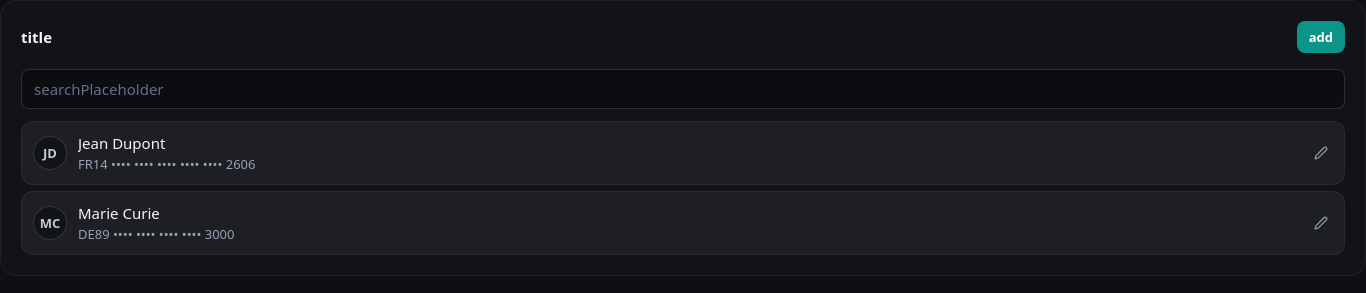
Test: BeneficiariesPanel › filtre la liste par libellé ou IBAN via la barre de recherche
Expected: the text "Jean Dupont" is shown, top-left (78, 133), bottom-right (165, 153)
Step 1. Type "marie" into the search field → (683, 89), box top-left (21, 69), bottom-right (1345, 109)
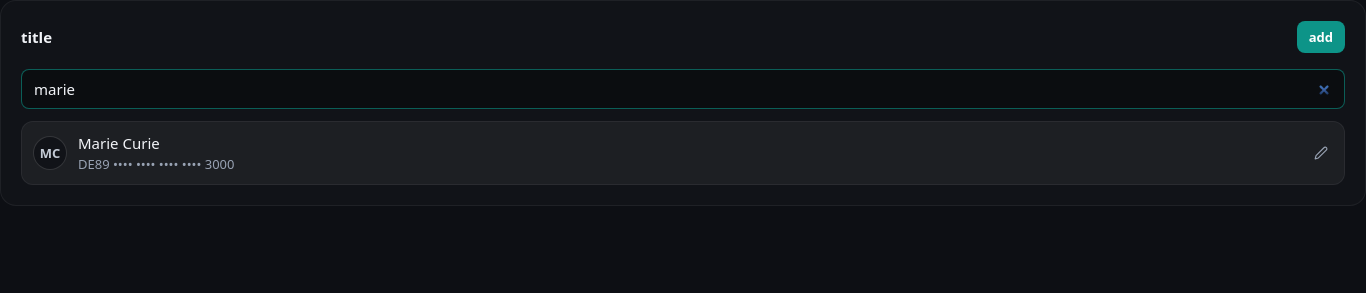
Expected: the text "Marie Curie" is shown, top-left (78, 133), bottom-right (160, 153)
Result: the button "Jean Dupont" is gone
Recherche par IBAN, avec espaces, insensible à la casse.
Step 2. Replace the text in the search field with "fr14 2004" → (683, 89), box top-left (21, 69), bottom-right (1345, 109)
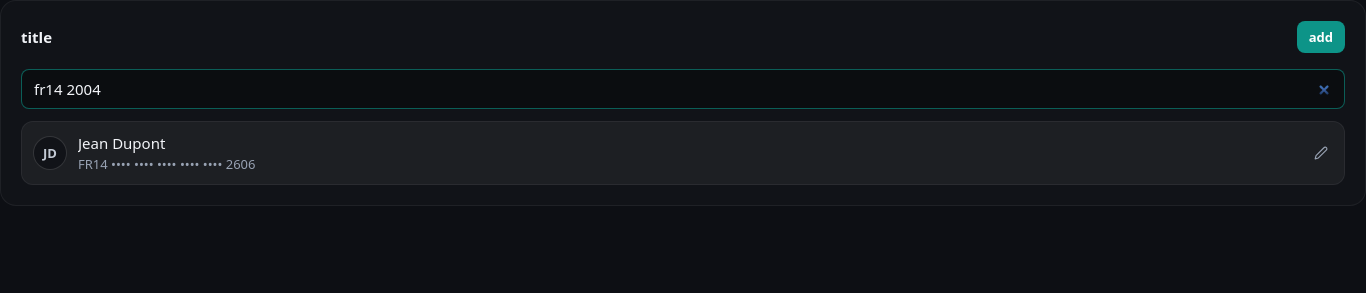
Expected: the button "Marie Curie" is not shown
Result: the text "Jean Dupont" is shown at top-left (78, 133), bottom-right (165, 153)
Step 3. Replace the text in the search field with "zzz" → (683, 89), box top-left (21, 69), bottom-right (1345, 109)
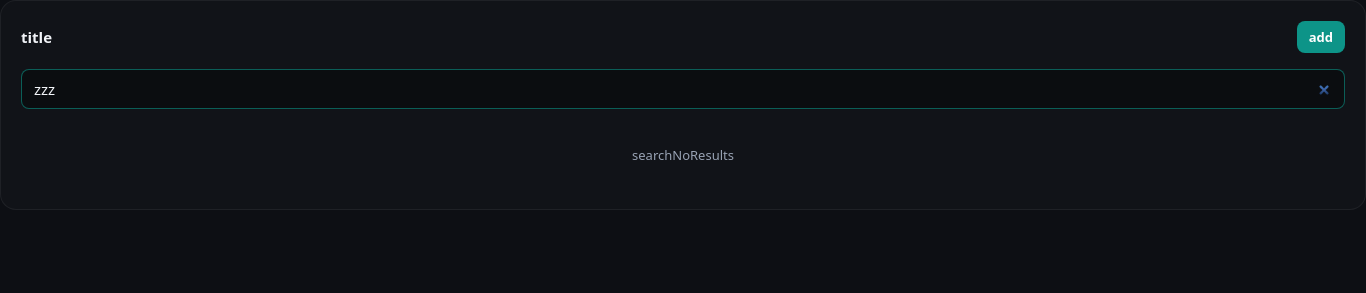
Result: the text "searchNoResults" is shown at top-left (632, 146), bottom-right (734, 164)
